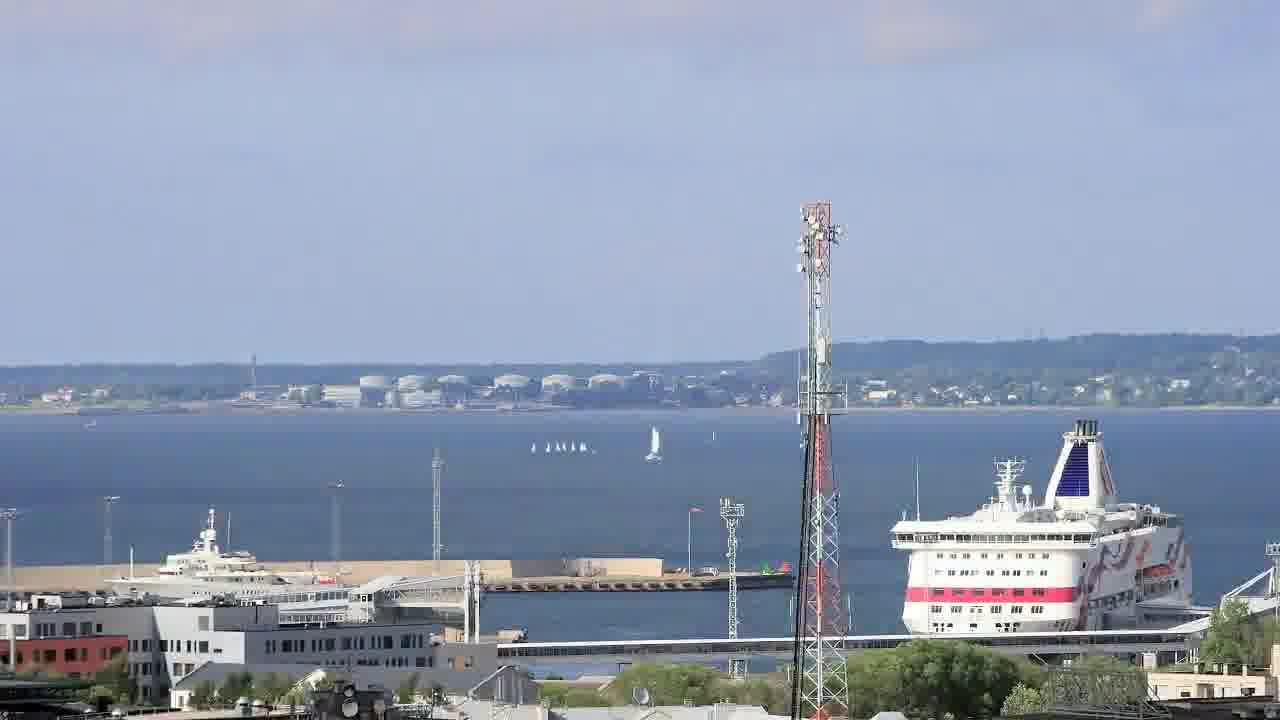type-2: (627, 417, 686, 467)
type-3: (868, 415, 1225, 638), (84, 537, 359, 610)
